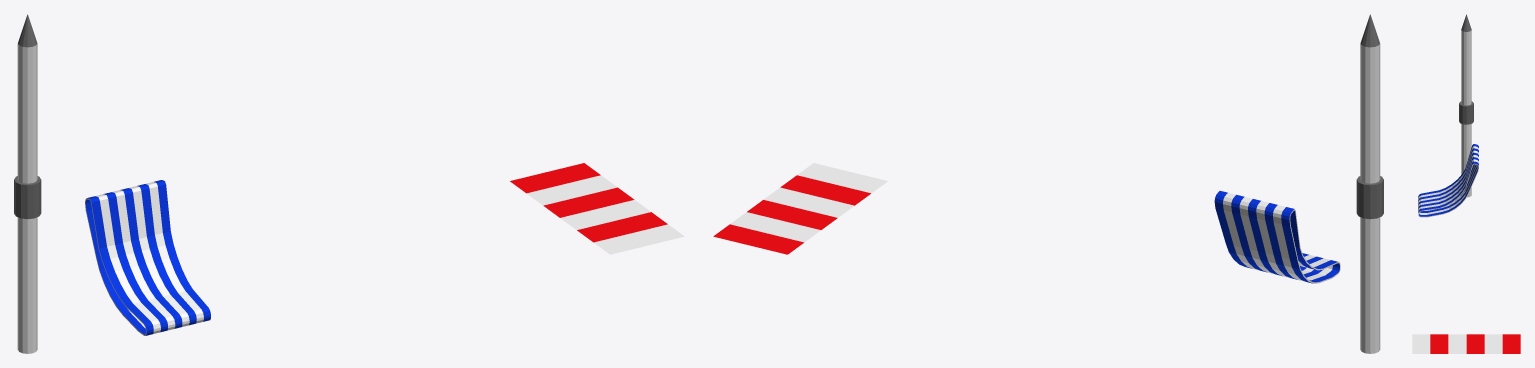
Rendered from ItensPraia.fbx.
3 views of the same model, side by side, from view 1: azimuth 30°, elevation 25°; view 2: azimuth 150°, elevation 25°; view 3: azimuth 270°, elevation 25° (orthographic). The views are drawn at different scales.
Visible parts, largest first — view 1: Cadeira, Plane.004, Cylinder; view 2: Plane.004, Cylinder, Cadeira; view 3: Plane.004, Cadeira, Cylinder.
Boxes of the visible parts, x1,y1,x2,y2 form: Cadeira: [85, 180, 210, 335]; Plane.004: [510, 163, 684, 254]; Cylinder: [14, 14, 41, 353]; Plane.004: [713, 163, 887, 254]; Cylinder: [1356, 14, 1383, 353]; Cadeira: [1214, 191, 1340, 283]; Plane.004: [1412, 334, 1520, 353]; Cadeira: [1418, 144, 1478, 217]; Cylinder: [1459, 14, 1473, 197].
Size of the model in its own units: 675 by 350 by 190.
